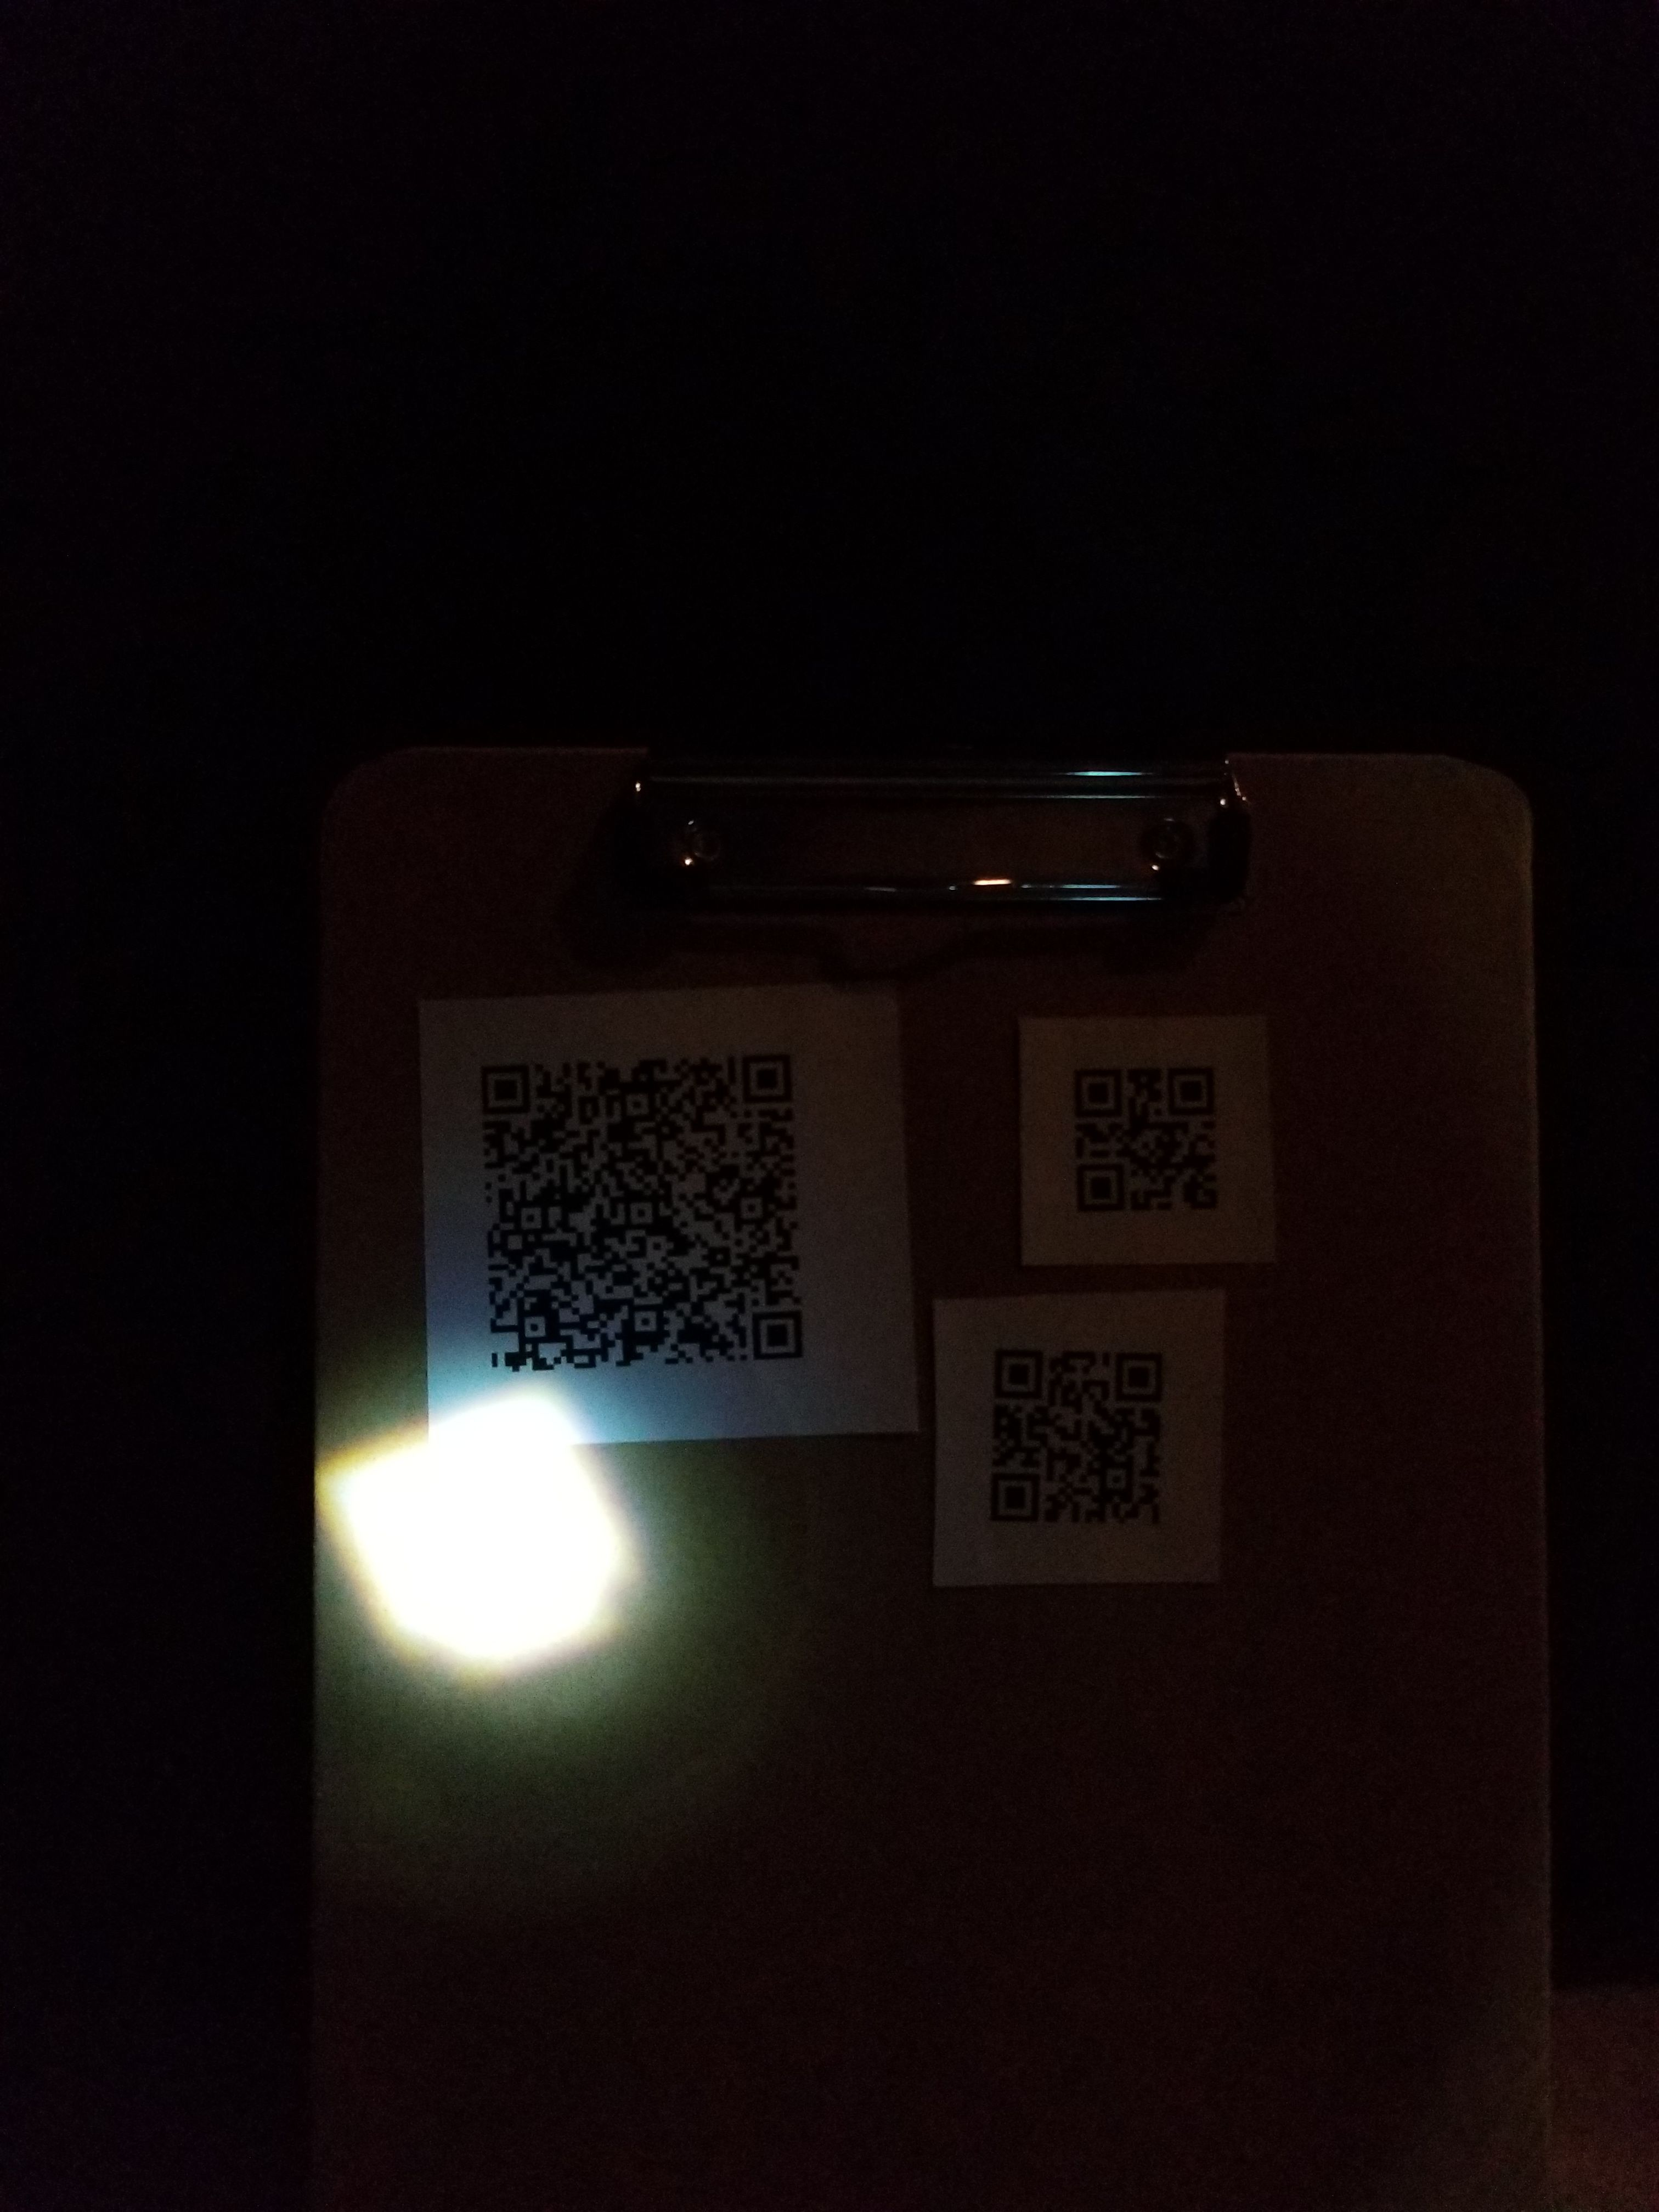QR_CODE: (450, 1014, 838, 1393), (962, 1310, 1202, 1550), (1037, 1026, 1249, 1231)
